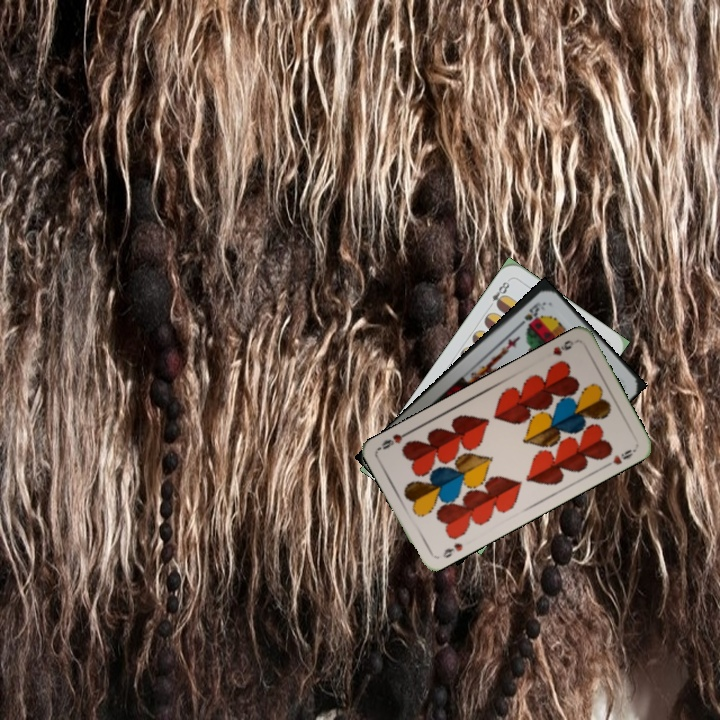E8: (484, 275, 513, 311)
H9: (549, 336, 576, 359), (439, 539, 465, 561)
SK: (513, 297, 547, 331)
